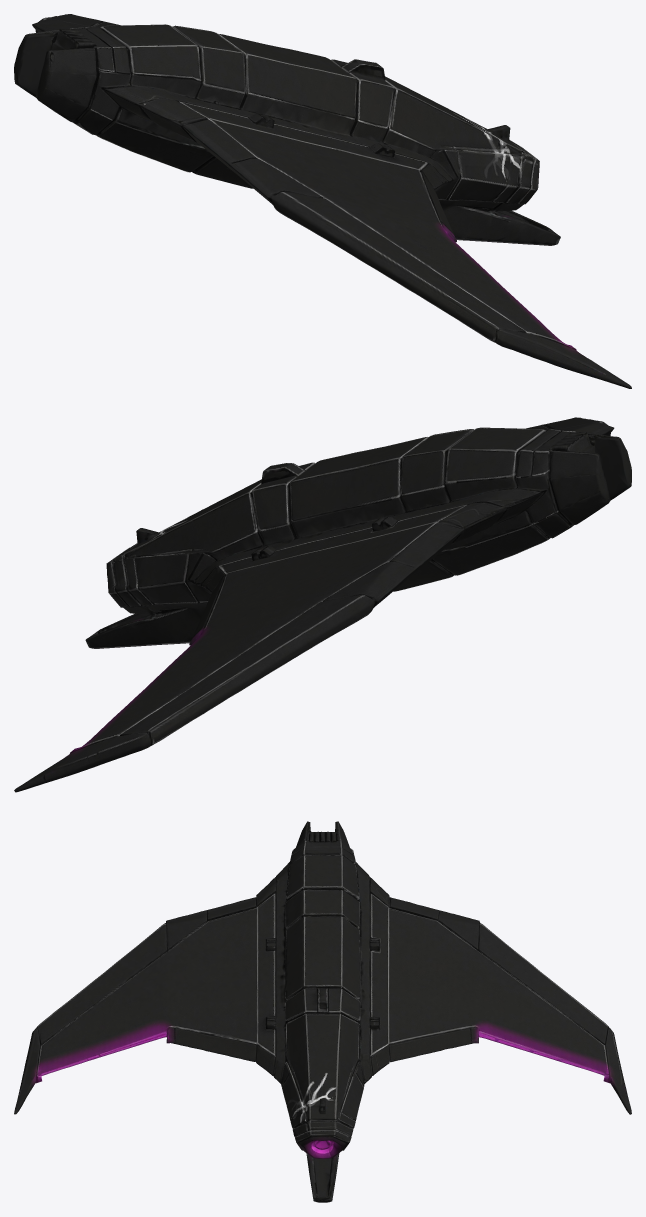
The model's file is Enemigo3.glb.
3 renders of one model, top to bottom at view 1: azimuth 30°, elevation 25°; view 2: azimuth 150°, elevation 25°; view 3: azimuth 270°, elevation 25°, orthographic. The views are drawn at different scales.
Parts seen in each view (by area): view 1: tripo_node_f31b6301-6dbd-4250-a74b-17bf5cf56a87; view 2: tripo_node_f31b6301-6dbd-4250-a74b-17bf5cf56a87; view 3: tripo_node_f31b6301-6dbd-4250-a74b-17bf5cf56a87.
Part boxes in pixels (bbox=[...]): tripo_node_f31b6301-6dbd-4250-a74b-17bf5cf56a87: bbox=[14, 14, 631, 388]; tripo_node_f31b6301-6dbd-4250-a74b-17bf5cf56a87: bbox=[14, 417, 631, 792]; tripo_node_f31b6301-6dbd-4250-a74b-17bf5cf56a87: bbox=[14, 821, 631, 1202].
Size of the model in its own units: 0.6448 by 0.3773 by 0.981.
1 material, 1 textured.
